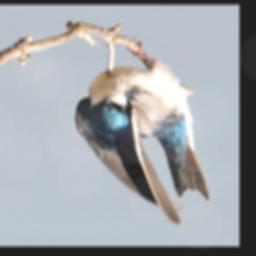Swallow: (74, 36, 211, 227)
